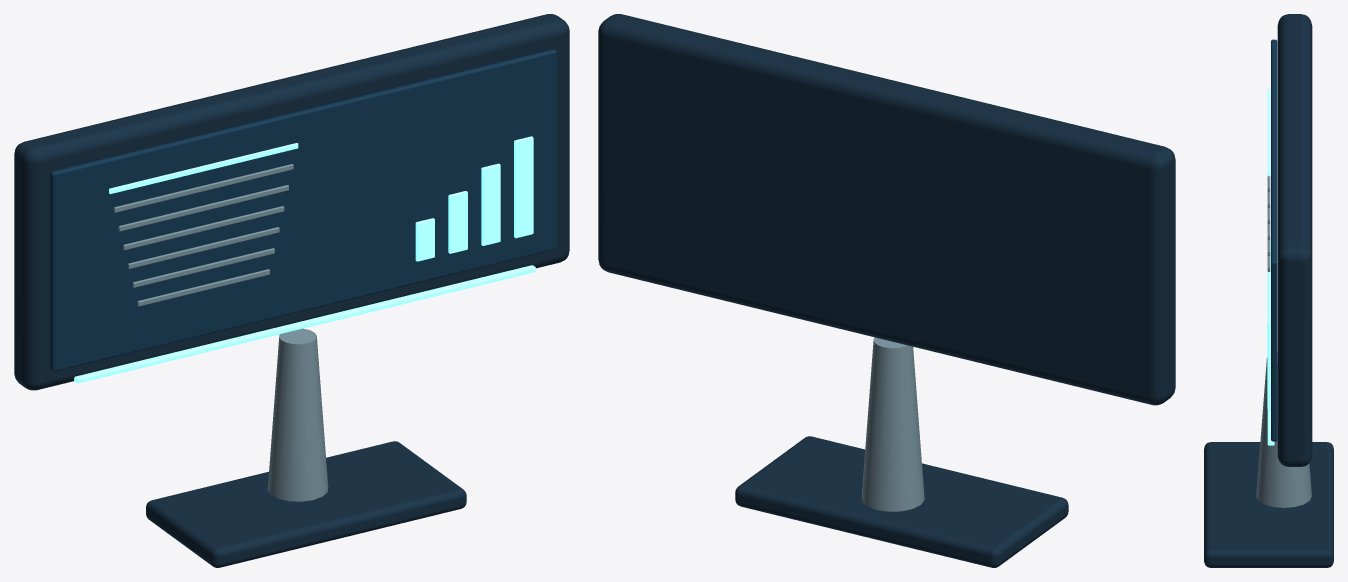
File: computerscreen.glb
3 views of the same model, side by side, from view 1: azimuth 30°, elevation 25°; view 2: azimuth 150°, elevation 25°; view 3: azimuth 270°, elevation 25° (orthographic). The views are drawn at different scales.
Parts seen in each view (by area): view 1: atelier-cyber-computerscreen; view 2: atelier-cyber-computerscreen; view 3: atelier-cyber-computerscreen.
Boxes of the visible parts, x1,y1,x2,y2 form: atelier-cyber-computerscreen: (14, 14, 569, 567); atelier-cyber-computerscreen: (598, 14, 1175, 567); atelier-cyber-computerscreen: (1204, 14, 1333, 567).
Bounding box in the file's own units: 1.35 × 1 × 0.3069.
